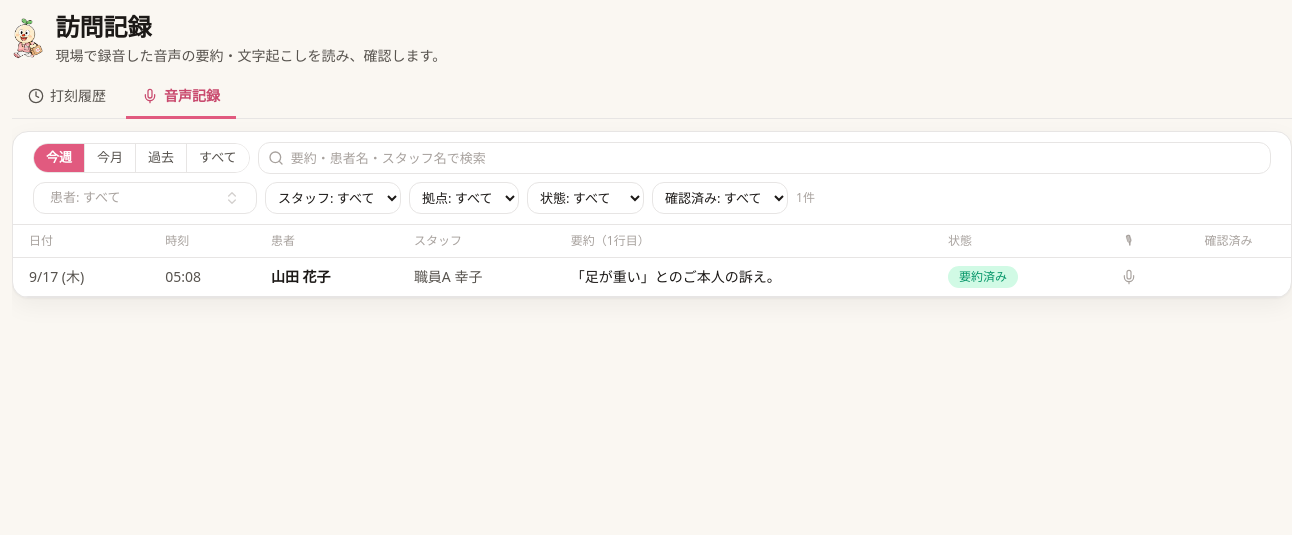
Test case: RecordsPage — タブ › タブを行き来しても、音声記録の絞り込みは残る（畳むだけで外さない）
Select "失敗" in the dropdown named "状態" at (586, 198), box left=527, top=182, right=644, bottom=214
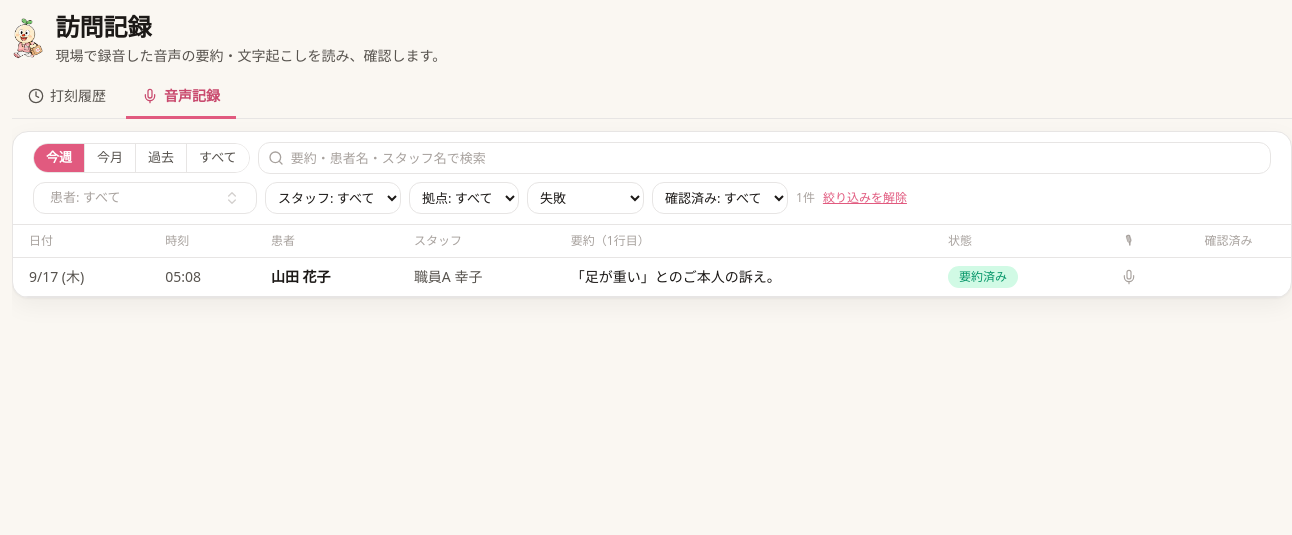
Click the tab "打刻履歴" at (67, 98), box left=12, top=78, right=122, bottom=119
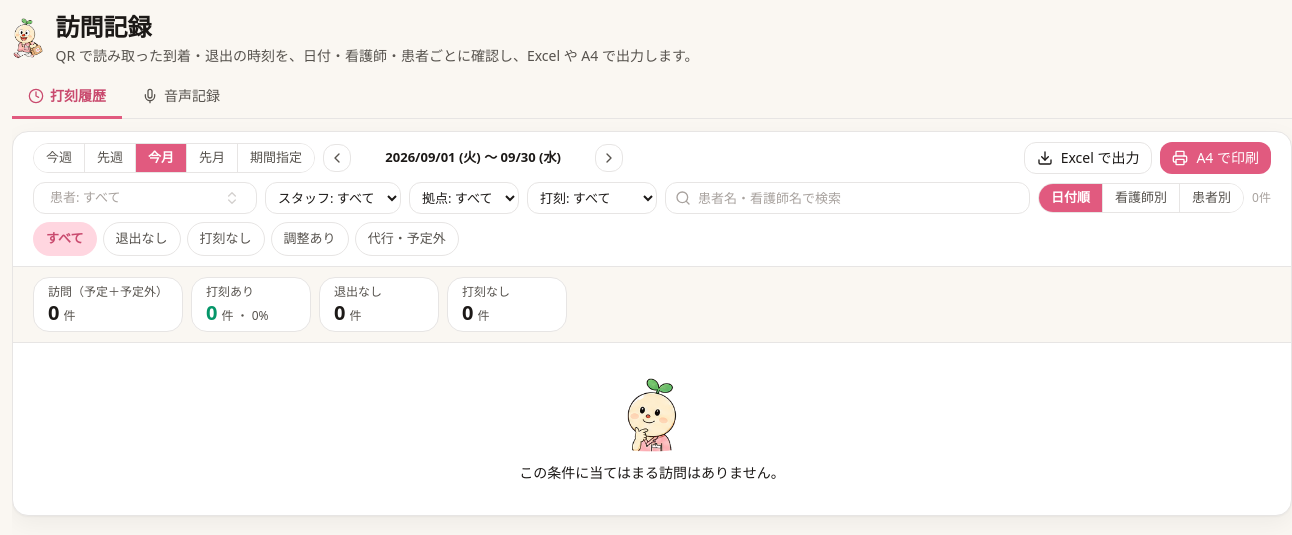
Now the element with test id "records-filter-bar" is gone
Click the tab "音声記録" at (181, 98), box left=126, top=78, right=236, bottom=119
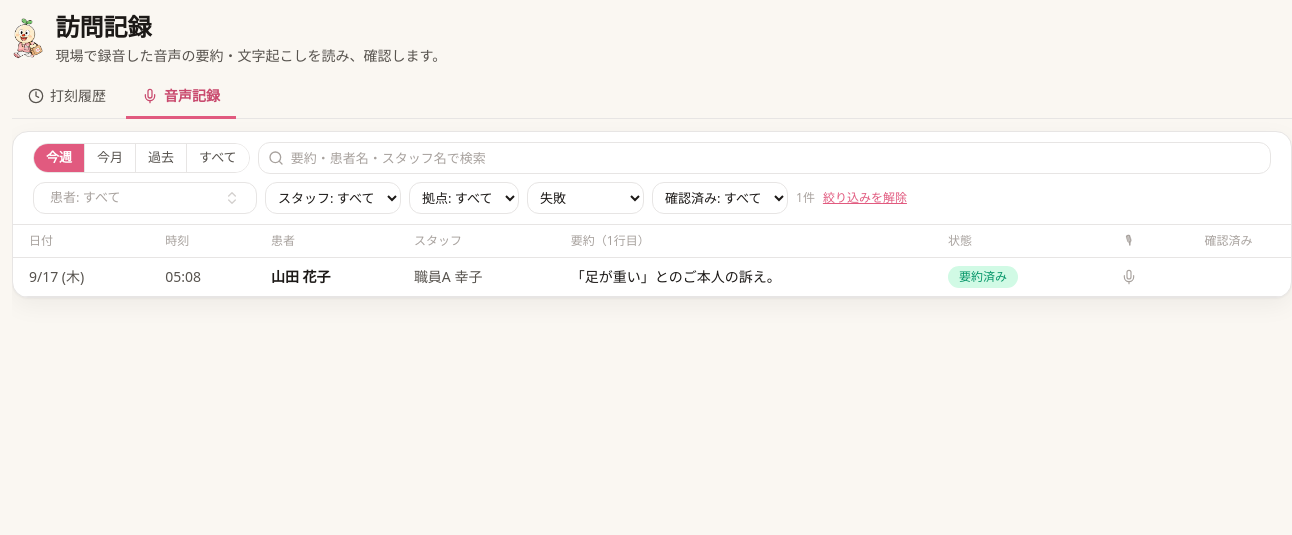
Now the element with test id "records-filter-bar" is shown, box left=33, top=142, right=1271, bottom=214
